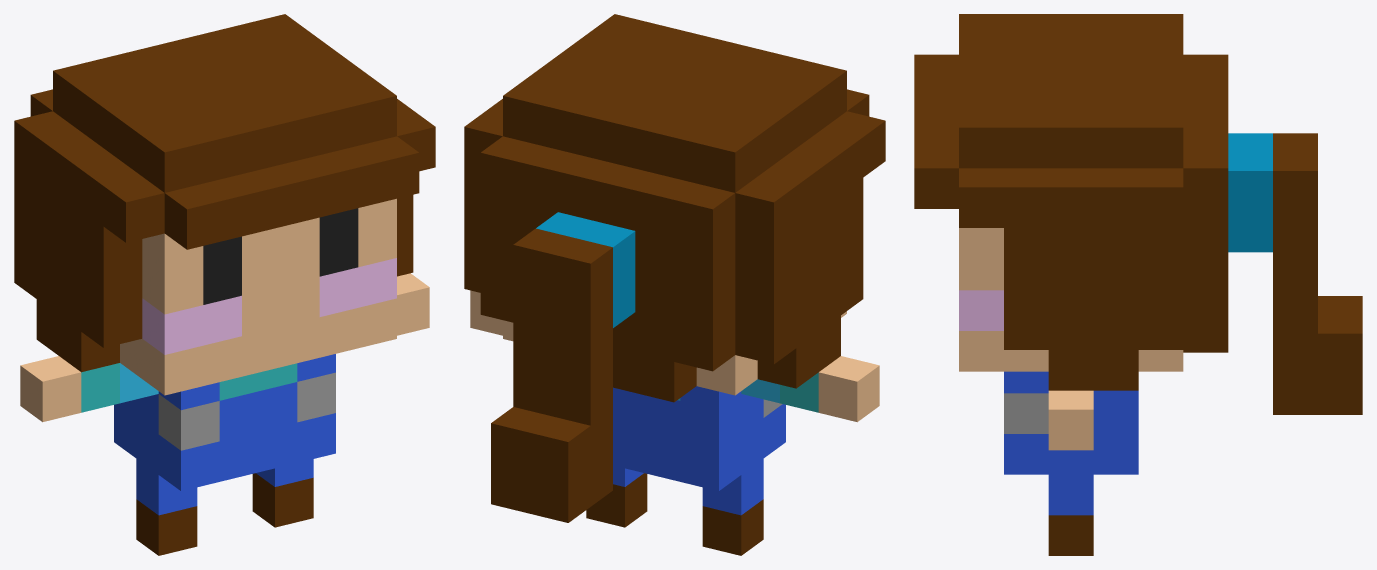
The picture shows the model from 3 angles, left to right: view 1: azimuth 30°, elevation 25°; view 2: azimuth 150°, elevation 25°; view 3: azimuth 270°, elevation 25°; orthographic projection.
Parts seen in each view (by area): view 1: Object_0; view 2: Object_0; view 3: Object_0.
Boxes of the visible parts, x1=… form: Object_0: x1=14, y1=14, x2=435, y2=555; Object_0: x1=464, y1=14, x2=885, y2=555; Object_0: x1=914, y1=14, x2=1362, y2=555.
Bounding box in the file's own units: 1.45 × 1.6 × 1.45.
Materials: 1 (1 with a texture image).
